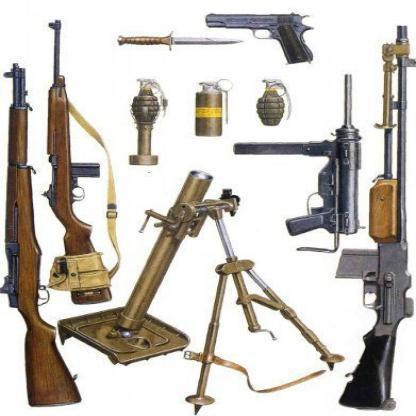Grenade: (128, 76, 172, 167), (195, 76, 235, 139), (254, 77, 296, 127)
Gun: (331, 22, 416, 411), (0, 60, 83, 408), (233, 72, 370, 256), (40, 17, 115, 306)
Knife: (115, 29, 247, 51)
Pistol: (203, 11, 317, 67)
